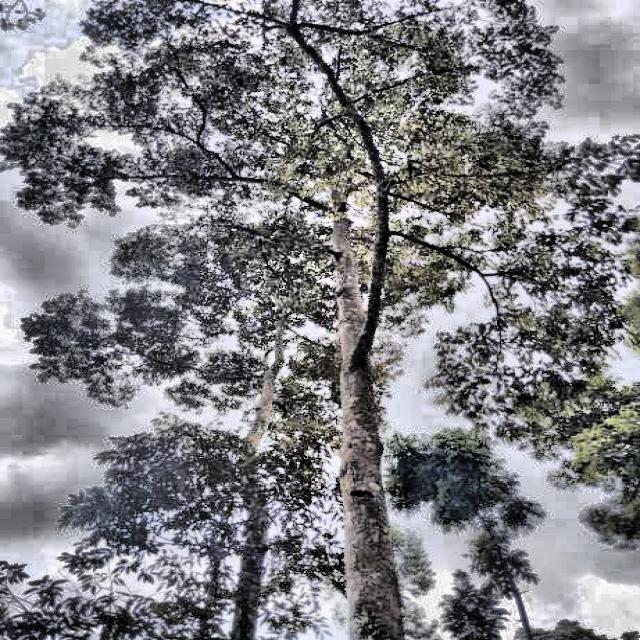arvore: (297, 124, 440, 640)
